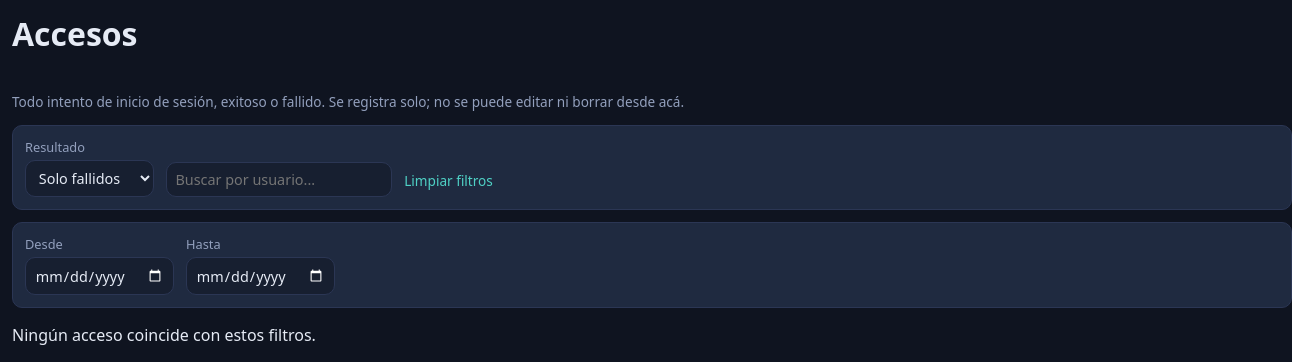
Scenario: AccesosAdminPage › el vacío filtrado no dice lo mismo que el vacío real
Expected: the text "Ningún acceso coincide con estos filtros." is shown, [12,324,316,346]
Click the button "Limpiar filtros".
click(449, 181)  # box [404,164,493,197]
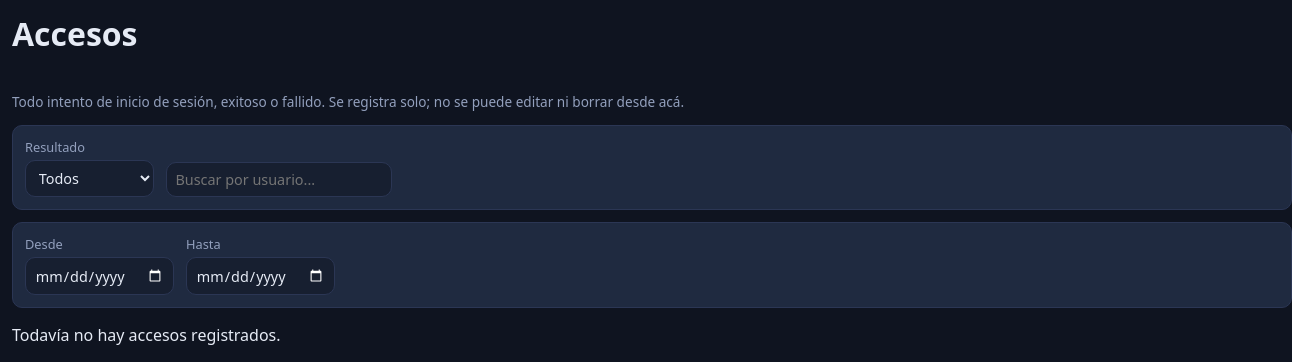
Now the text "Todavía no hay accesos registrados." is shown, box [12,324,281,346]
